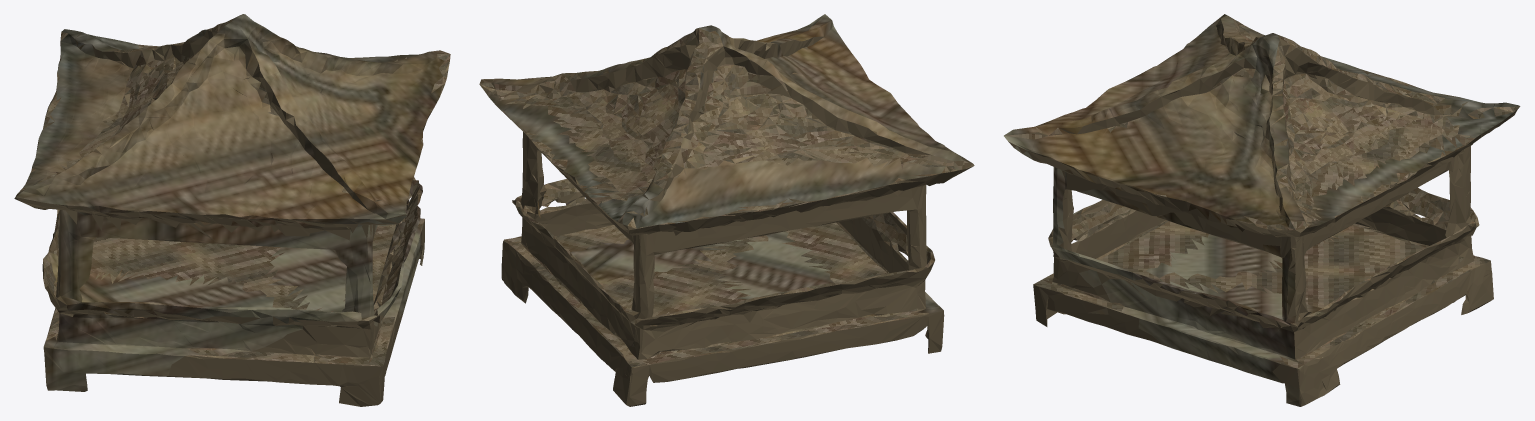
3 views of the same model, side by side, from view 1: azimuth 30°, elevation 25°; view 2: azimuth 150°, elevation 25°; view 3: azimuth 270°, elevation 25° (orthographic). The views are drawn at different scales.
Parts seen in each view (by area): view 1: painted, roof, wall; view 2: wall, roof, painted; view 3: painted, wall, roof.
Part boxes in pixels (x1=…): painted: x1=14, y1=14, x2=444, y2=391; roof: x1=15, y1=15, x2=450, y2=366; wall: x1=16, y1=29, x2=424, y2=406; wall: x1=479, y1=28, x2=973, y2=406; roof: x1=480, y1=26, x2=974, y2=367; painted: x1=480, y1=14, x2=972, y2=317; painted: x1=1004, y1=14, x2=1519, y2=406; wall: x1=1008, y1=38, x2=1518, y2=406; roof: x1=1004, y1=17, x2=1519, y2=369.
Bounding box in the file's own units: 4.43 × 2.69 × 4.46.
3 materials, 3 textured.
